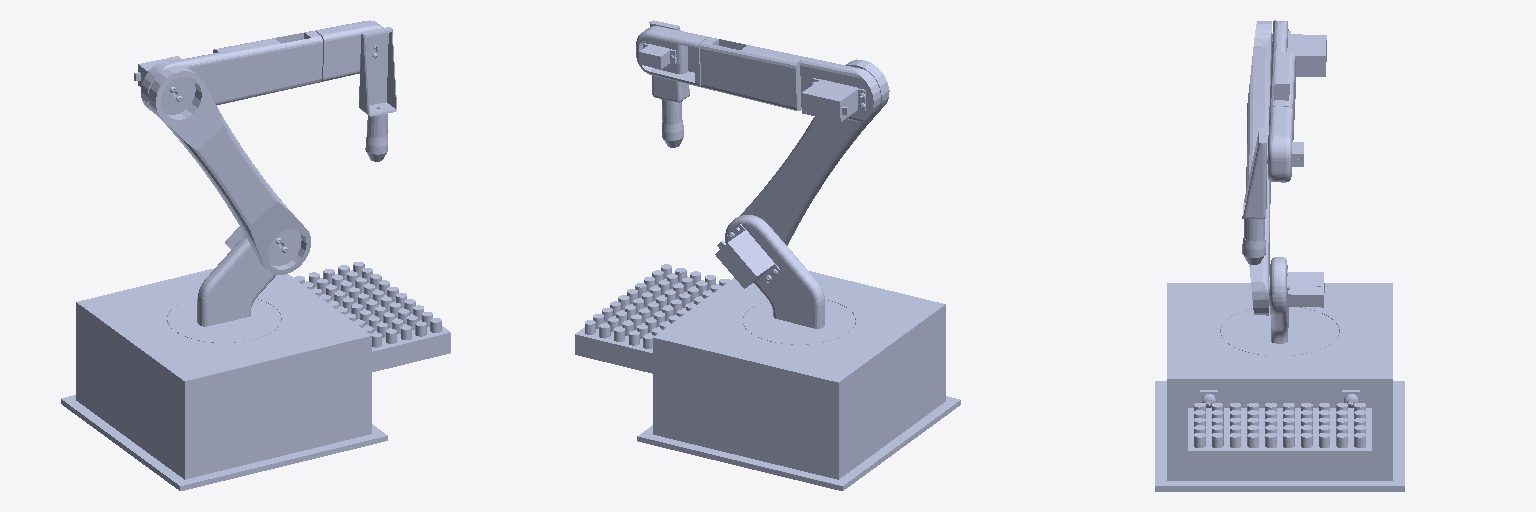
URDF robot description (urdf_export):
<?xml version="1.0" encoding="utf-8"?>
<!-- This URDF was automatically created by SolidWorks to urdf_export! Originally created by [author] ([email redacted]) 
     Commit Version: 1.6.0-1-g15f4949  Build Version: 1.6.7594.29634
     For more information, please see http://wiki.ros.org/sw_urdf_exporter -->
<robot
  name="urdf_export">
  <link
    name="base_link">
    <inertial>
      <origin
        xyz="0.093858 0.12633 0.21897"
        rpy="0 0 0" />
      <mass
        value="1.3642" />
      <inertia
        ixx="0.006457"
        ixy="1.2994E-06"
        ixz="2.2481E-08"
        iyy="0.010326"
        iyz="7.3921E-06"
        izz="0.0061127" />
    </inertial>
    <visual>
      <origin
        xyz="0 0 0"
        rpy="0 0 0" />
      <geometry>
        <mesh
          filename="package://urdf_export/meshes/base_link.STL" />
      </geometry>
      <material
        name="">
        <color
          rgba="0.79216 0.81961 0.93333 1" />
      </material>
    </visual>
    <collision>
      <origin
        xyz="0 0 0"
        rpy="0 0 0" />
      <geometry>
        <mesh
          filename="package://urdf_export/meshes/base_link.STL" />
      </geometry>
    </collision>
  </link>
  <link
    name="Link_1">
    <inertial>
      <origin
        xyz="0.020212 0.041371 -0.0052931"
        rpy="0 0 0" />
      <mass
        value="0.13194" />
      <inertia
        ixx="0.0001026"
        ixy="-4.4981E-05"
        ixz="1.9288E-06"
        iyy="9.8208E-05"
        iyz="1.7697E-06"
        izz="0.00014958" />
    </inertial>
    <visual>
      <origin
        xyz="0 0 0"
        rpy="0 0 0" />
      <geometry>
        <mesh
          filename="package://urdf_export/meshes/Link_1.STL" />
      </geometry>
      <material
        name="">
        <color
          rgba="0.79216 0.81961 0.93333 1" />
      </material>
    </visual>
    <collision>
      <origin
        xyz="0 0 0"
        rpy="0 0 0" />
      <geometry>
        <mesh
          filename="package://urdf_export/meshes/Link_1.STL" />
      </geometry>
    </collision>
  </link>
  <joint
    name="Joint_0"
    type="continuous">
    <origin
      xyz="0.061602 -0.21942 0.15614"
      rpy="1.5708 0 -0.069291" />
    <parent
      link="base_link" />
    <child
      link="Link_1" />
    <axis
      xyz="0 1 0" />
    <limit
      lower="0"
      upper="0"
      effort="0"
      velocity="0" />
  </joint>
  <link
    name="Link_2">
    <inertial>
      <origin
        xyz="0.049842 -0.087123 0.0145"
        rpy="0 0 0" />
      <mass
        value="0.1551" />
      <inertia
        ixx="0.00045958"
        ixy="0.00024247"
        ixz="7.4969E-06"
        iyy="0.00016514"
        iyz="-1.1711E-05"
        izz="0.00061443" />
    </inertial>
    <visual>
      <origin
        xyz="0 0 0"
        rpy="0 0 0" />
      <geometry>
        <mesh
          filename="package://urdf_export/meshes/Link_2.STL" />
      </geometry>
      <material
        name="">
        <color
          rgba="0.79216 0.81961 0.93333 1" />
      </material>
    </visual>
    <collision>
      <origin
        xyz="0 0 0"
        rpy="0 0 0" />
      <geometry>
        <mesh
          filename="package://urdf_export/meshes/Link_2.STL" />
      </geometry>
    </collision>
  </link>
  <joint
    name="Joint_1"
    type="continuous">
    <origin
      xyz="0.050169 0.074195 -0.0024231"
      rpy="-0.0021329 -0.096474 -3.0974" />
    <parent
      link="Link_1" />
    <child
      link="Link_2" />
    <axis
      xyz="0.048242 0 0.99884" />
  </joint>
  <link
    name="Link_3">
    <inertial>
      <origin
        xyz="0.056834 -0.0055759 -0.0081581"
        rpy="0 0 0" />
      <mass
        value="0.14369" />
      <inertia
        ixx="3.1173E-05"
        ixy="1.564E-05"
        ixz="1.582E-05"
        iyy="0.00020478"
        iyz="-1.3793E-06"
        izz="0.00021814" />
    </inertial>
    <visual>
      <origin
        xyz="0 0 0"
        rpy="0 0 0" />
      <geometry>
        <mesh
          filename="package://urdf_export/meshes/Link_3.STL" />
      </geometry>
      <material
        name="">
        <color
          rgba="0.79216 0.81961 0.93333 1" />
      </material>
    </visual>
    <collision>
      <origin
        xyz="0 0 0"
        rpy="0 0 0" />
      <geometry>
        <mesh
          filename="package://urdf_export/meshes/Link_3.STL" />
      </geometry>
    </collision>
  </link>
  <joint
    name="Joint_2"
    type="continuous">
    <origin
      xyz="0.098056 -0.17425 -0.0047359"
      rpy="-0.0011961 -0.096506 -3.1168" />
    <parent
      link="Link_2" />
    <child
      link="Link_3" />
    <axis
      xyz="0.048242 0 0.99884" />
  </joint>
  <link
    name="Link_4">
    <inertial>
      <origin
        xyz="0.0408607169742835 -0.00388673710064014 -0.00162798866586814"
        rpy="0 0 0" />
      <mass
        value="0.0383846470880527" />
      <inertia
        ixx="7.39531771506327E-06"
        ixy="6.29470932762514E-07"
        ixz="4.00920380495191E-07"
        iyy="1.39446878284893E-05"
        iyz="-9.33672780612939E-09"
        izz="1.89049583807687E-05" />
    </inertial>
    <visual>
      <origin
        xyz="0 0 0"
        rpy="0 0 0" />
      <geometry>
        <mesh
          filename="package://urdf_export/meshes/Link_4.STL" />
      </geometry>
      <material
        name="">
        <color
          rgba="0.792156862745098 0.819607843137255 0.933333333333333 1" />
      </material>
    </visual>
    <collision>
      <origin
        xyz="0 0 0"
        rpy="0 0 0" />
      <geometry>
        <mesh
          filename="package://urdf_export/meshes/Link_4.STL" />
      </geometry>
    </collision>
  </link>
  <joint
    name="Joint_3"
    type="continuous">
    <origin
      xyz="0.14561 -0.01387 -0.010114"
      rpy="-0.0078276 0.00074645 0.00037515" />
    <parent
      link="Link_3" />
    <child
      link="Link_4" />
    <axis
      xyz="0.99435 -0.094634 -0.048025" />
  </joint>
  <link
    name="End_effector">
    <inertial>
      <origin
        xyz="0.001529 -0.05263 0.018807"
        rpy="0 0 0" />
      <mass
        value="0.019695" />
      <inertia
        ixx="1.1324E-05"
        ixy="-6.6347E-07"
        ixz="1.0907E-07"
        iyy="1.7645E-06"
        iyz="1.0472E-06"
        izz="1.2014E-05" />
    </inertial>
    <visual>
      <origin
        xyz="0 0 0"
        rpy="0 0 0" />
      <geometry>
        <mesh
          filename="package://urdf_export/meshes/End_effector.STL" />
      </geometry>
      <material
        name="">
        <color
          rgba="0.79216 0.81961 0.93333 1" />
      </material>
    </visual>
    <collision>
      <origin
        xyz="0 0 0"
        rpy="0 0 0" />
      <geometry>
        <mesh
          filename="package://urdf_export/meshes/End_effector.STL" />
      </geometry>
    </collision>
  </link>
  <joint
    name="Joint_4"
    type="continuous">
    <origin
      xyz="0.049718 -0.0047317 -0.0024013"
      rpy="-0.0015344 -6.3808E-05 -0.031709" />
    <parent
      link="Link_4" />
    <child
      link="End_effector" />
    <axis
      xyz="0.04836 0.0012435 0.99883" />
  </joint>
</robot>

--- What the picture shows (computed from the rendered views, not written in the file) ---
Views: 3 orthographic renders of the robot side by side, from view 1: azimuth 30°, elevation 25°; view 2: azimuth 150°, elevation 25°; view 3: azimuth 270°, elevation 25°.
Model urdf_export with 6 links and 5 joints (5 continuous), rooted at base_link, posed every joint at zero.
Links seen in each view (by area): view 1: base_link, Link_2, Link_3, Link_1, End_effector, Link_4; view 2: base_link, Link_3, Link_1, Link_2, Link_4, End_effector; view 3: base_link, Link_1, Link_2, Link_3, End_effector, Link_4.
Link boxes in pixels (x1=…): base_link: x1=61, y1=262, x2=450, y2=490; Link_2: x1=148, y1=66, x2=310, y2=274; Link_3: x1=134, y1=31, x2=322, y2=113; Link_1: x1=167, y1=226, x2=280, y2=342; End_effector: x1=359, y1=27, x2=396, y2=161; Link_4: x1=315, y1=20, x2=383, y2=81; base_link: x1=575, y1=264, x2=960, y2=490; Link_3: x1=700, y1=37, x2=880, y2=121; Link_1: x1=715, y1=215, x2=855, y2=344; Link_2: x1=740, y1=59, x2=889, y2=245; Link_4: x1=636, y1=26, x2=708, y2=87; End_effector: x1=649, y1=20, x2=689, y2=147; base_link: x1=1155, y1=283, x2=1404, y2=491; Link_1: x1=1221, y1=257, x2=1338, y2=355; Link_2: x1=1246, y1=21, x2=1272, y2=315; Link_3: x1=1269, y1=20, x2=1326, y2=139; End_effector: x1=1242, y1=127, x2=1266, y2=264; Link_4: x1=1267, y1=106, x2=1303, y2=182.
Size in the robot's own frame: 0.29 by 0.21 by 0.36 metres.
6 mesh visuals loaded from 6 distinct referenced files (6 binary STL).